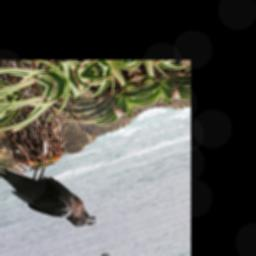Crow: (0, 144, 103, 248)
